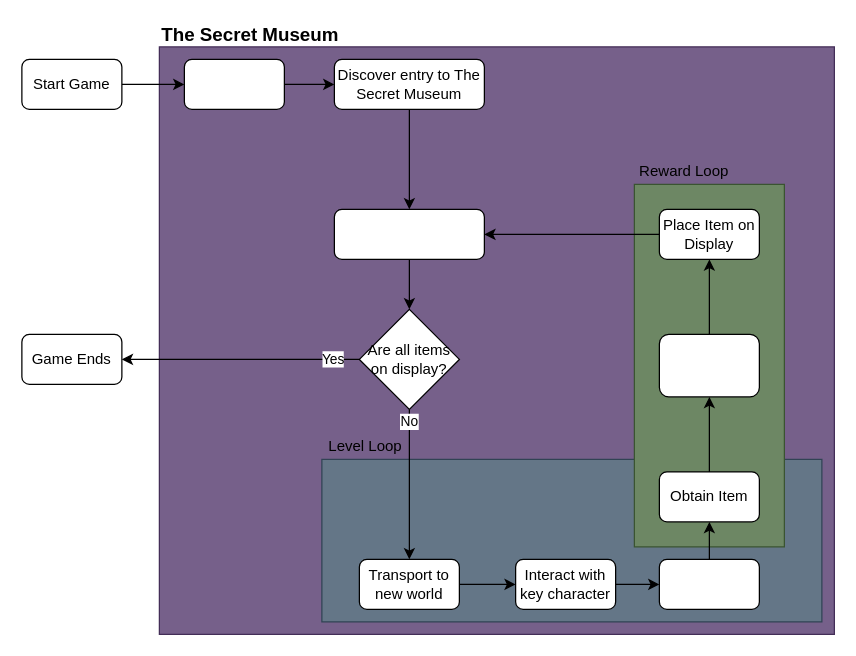
The diagram is 856 pixels wide and 656 high, and some of its shapes have lost their labels. Each missing label, with the centre of its shape:
"Explore Main Museum" belongs at point (233, 83).
"Explore The Secret Museum" belongs at point (408, 233).
"Return to The Secret Museum" belongs at point (708, 365).
"Solve Puzzle" belongs at point (708, 583).
